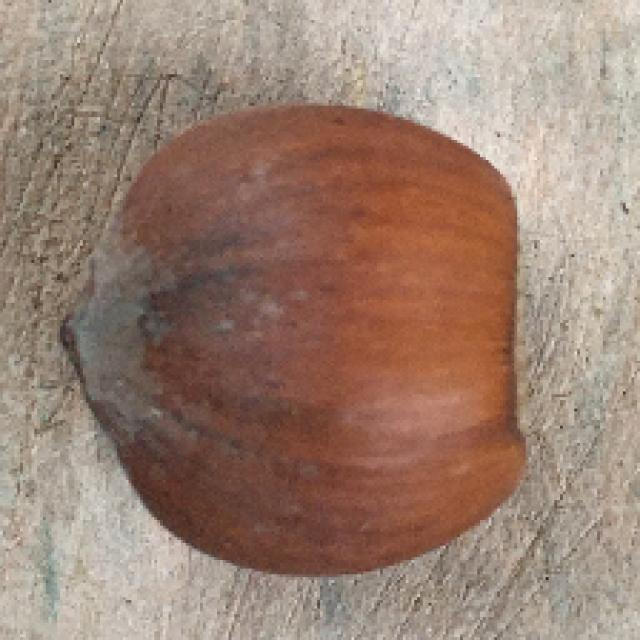qualityHazelnut: (66, 102, 546, 580)
